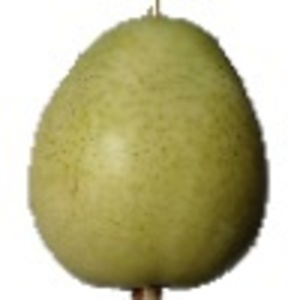pera: (27, 1, 270, 300)
